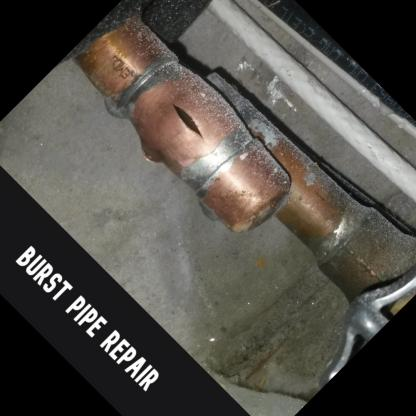burst: (173, 99, 211, 144)
